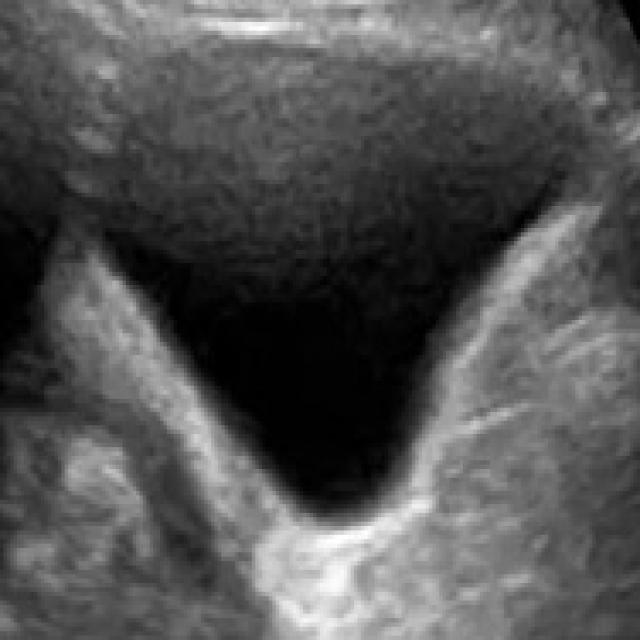bladder: (22, 4, 620, 597)
